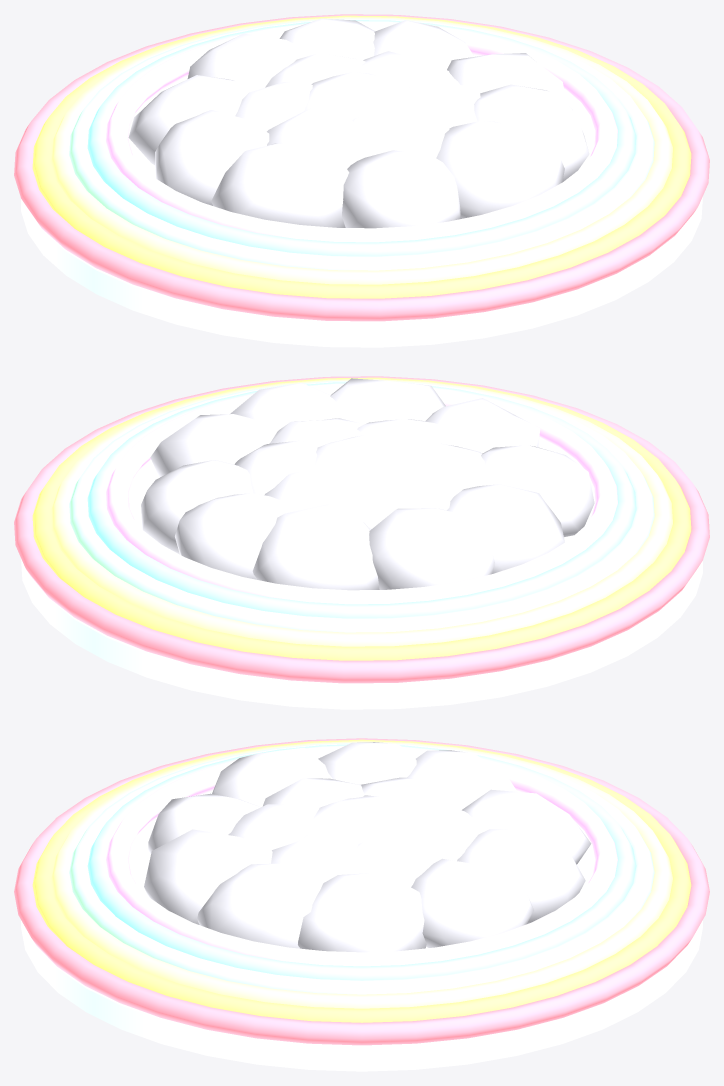
File: disc.glb
3 views of the same model, one above another, from view 1: azimuth 30°, elevation 25°; view 2: azimuth 150°, elevation 25°; view 3: azimuth 270°, elevation 25° (orthographic).
Visible parts, largest first — view 1: disc; view 2: disc; view 3: disc.
Part boxes in pixels (x1,y1,x2,y2): disc: (14,14,709,347); disc: (14,376,709,709); disc: (14,738,709,1071).
Bounding box in the file's own units: 0.796 × 0.1486 × 0.796.
